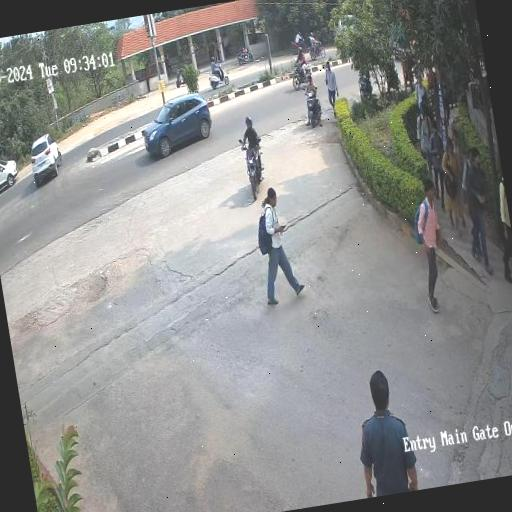helmet: (238, 110, 266, 148)
no helmet: (301, 70, 322, 91)
triple riding: (300, 24, 331, 62)
